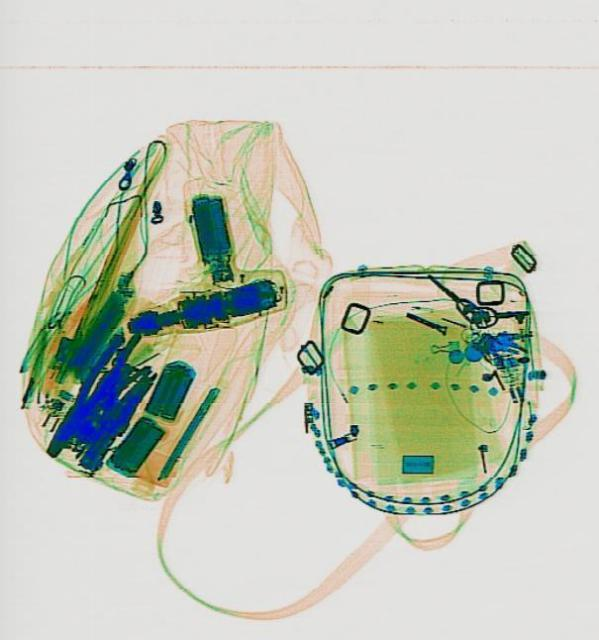Pliers: (47, 319, 142, 443)
